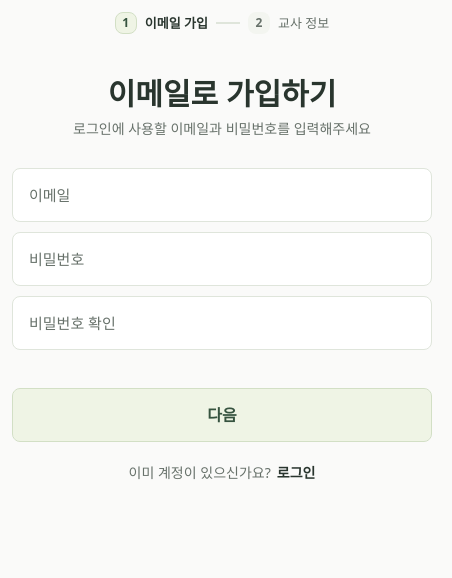
SignupPage › 빈 칸으로 넘어가면 세 칸 모두 오류를 보여 준다
Click the button "다음": coordinates (222, 415) [12,388,432,442]
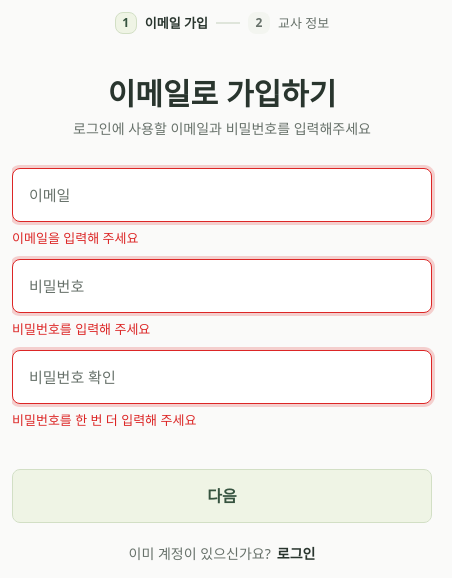
Now the text "이메일을 입력해 주세요" is shown, box [12,229,138,247]
Now the text "비밀번호를 입력해 주세요" is shown, box [12,320,150,338]
Now the text "비밀번호를 한 번 더 입력해 주세요" is shown, box [12,411,196,429]
